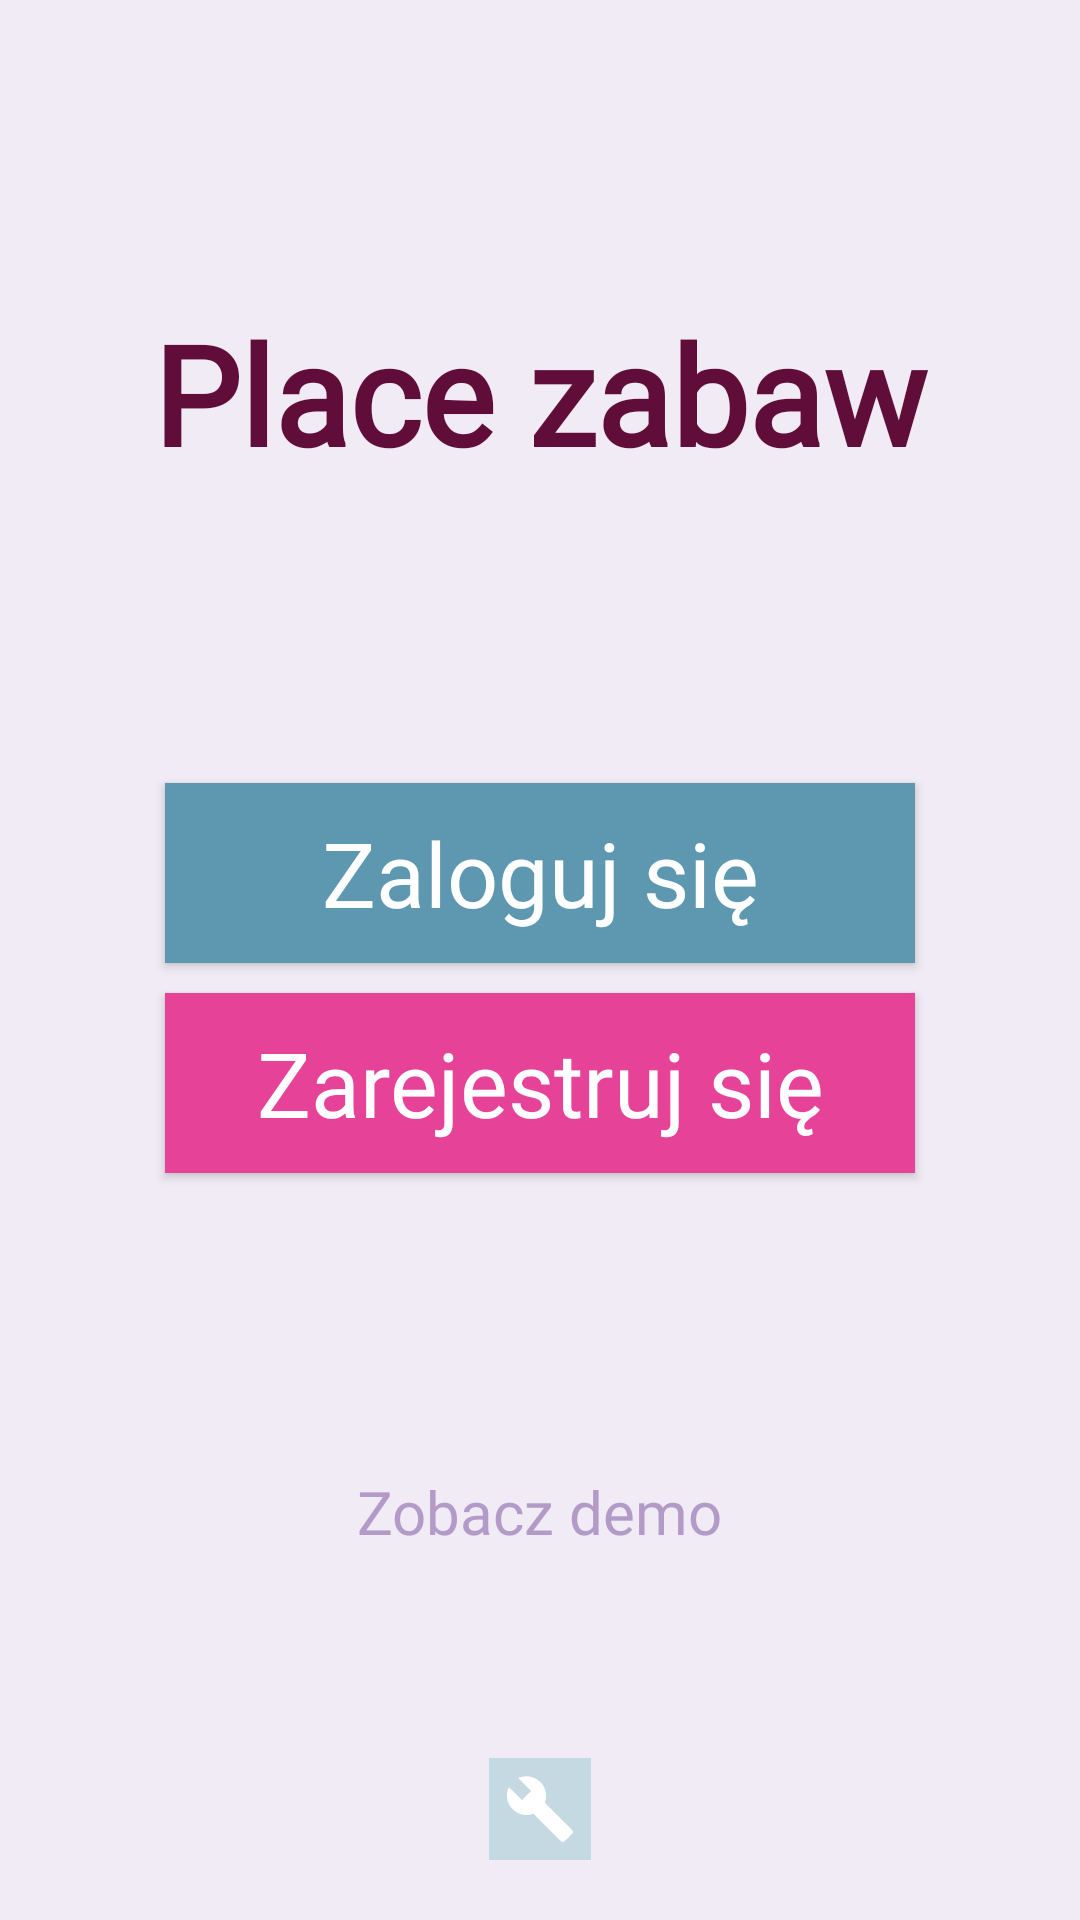

Locate icon controls on the screen. Image size 1080*1920, boxes as bbox=[x1, y1, x2, y2].
build: bbox=[489, 1758, 591, 1860]
